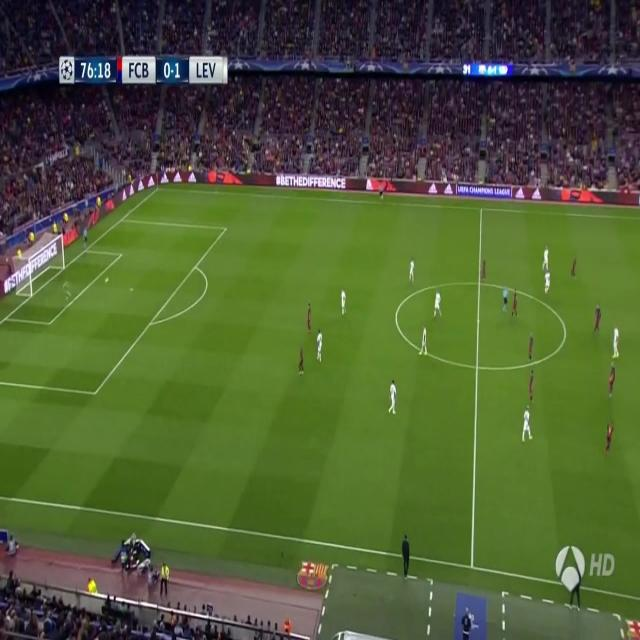Ball: (103, 276, 109, 286)
Goalkeeper: (62, 276, 73, 305)
Player: (520, 404, 535, 449), (386, 376, 399, 418), (606, 359, 618, 402), (610, 324, 623, 361), (604, 416, 616, 456), (432, 288, 446, 322), (416, 324, 429, 357), (315, 326, 325, 366), (510, 289, 522, 321), (338, 285, 349, 319), (591, 302, 602, 336), (543, 267, 554, 300), (480, 256, 491, 285), (527, 366, 535, 405), (407, 255, 417, 286), (540, 243, 551, 271), (305, 300, 314, 334), (298, 344, 306, 378), (568, 256, 579, 280), (527, 330, 535, 362)
Referee: (502, 284, 511, 314), (82, 225, 89, 253), (377, 184, 387, 202)
